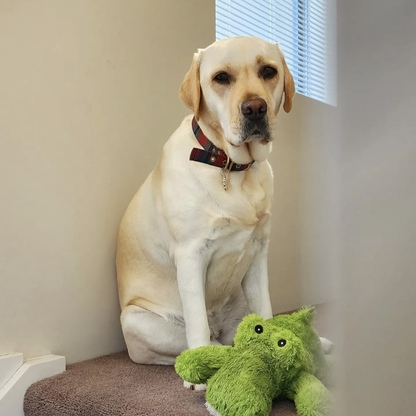labrado: (75, 26, 320, 362)
